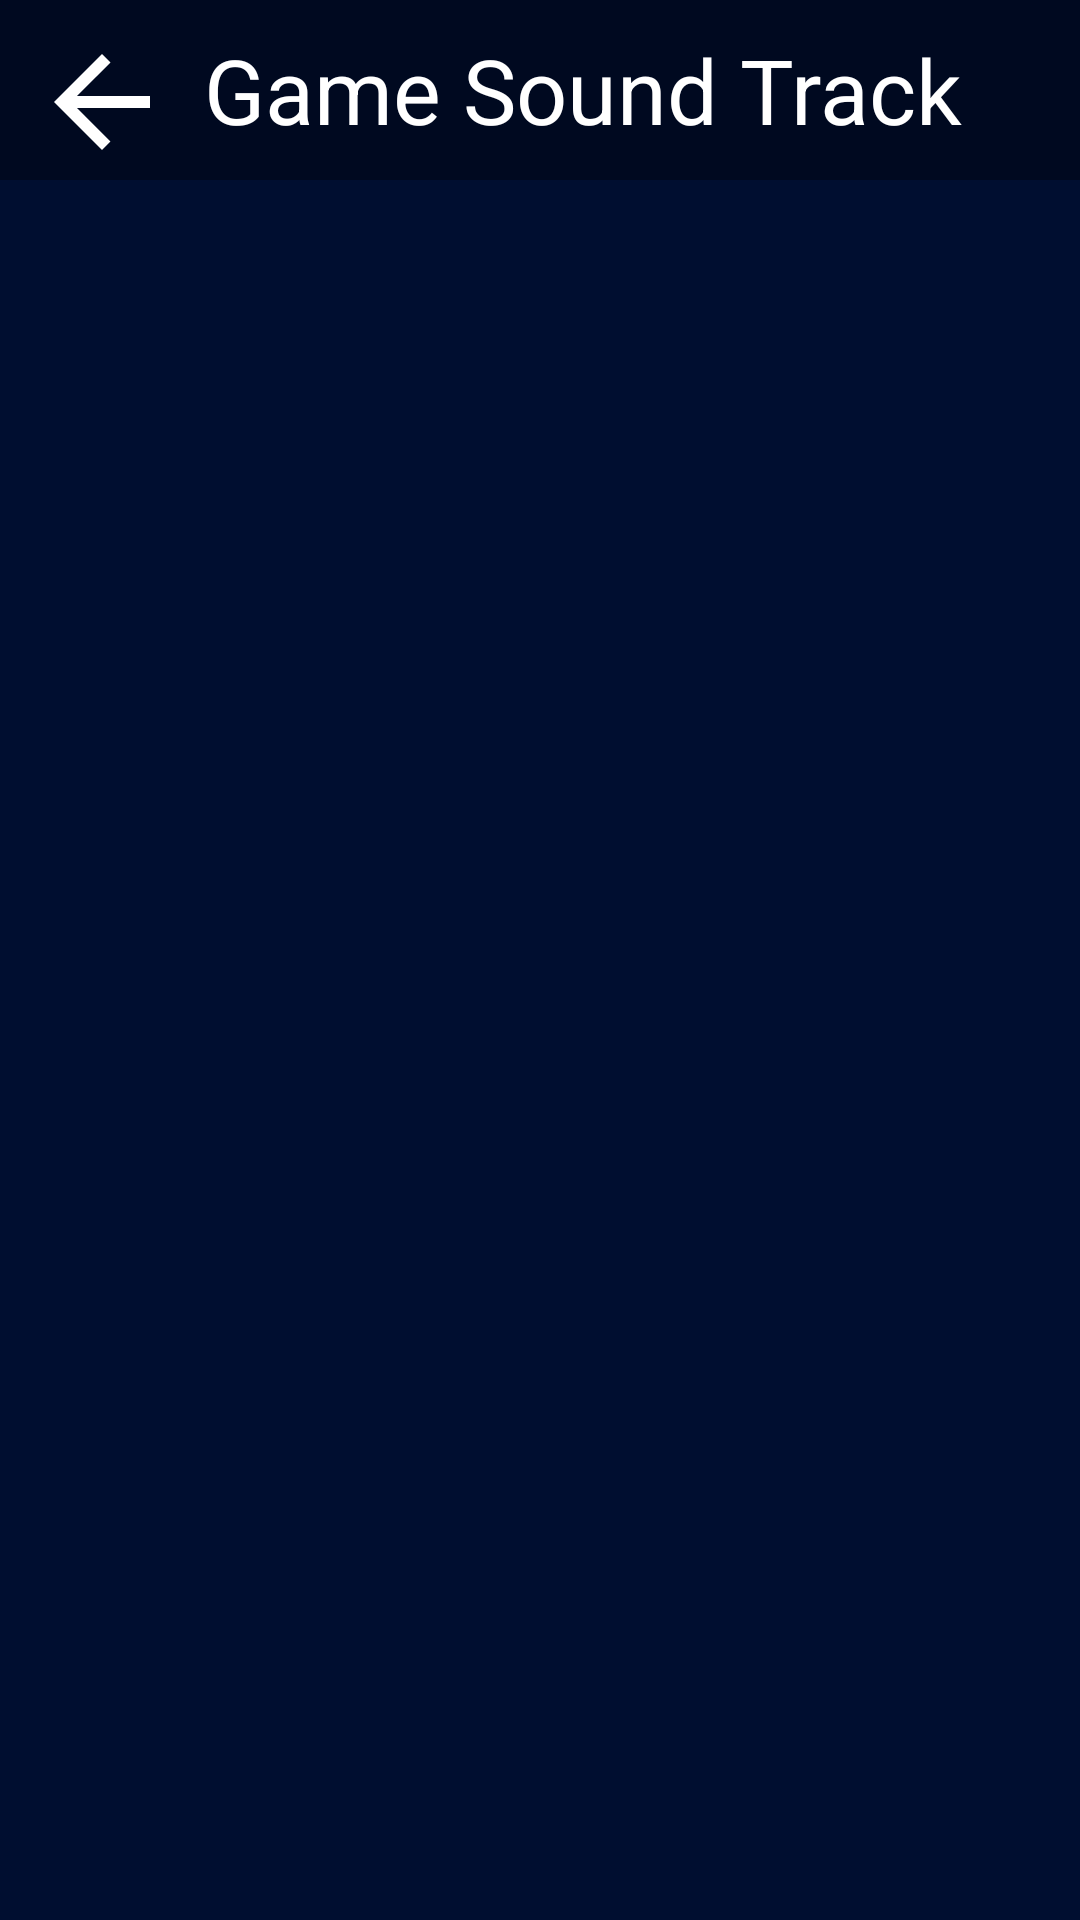

Screen size 1080 x 1920. Icon name, then its center in pixels as [x,y]:
arrow back: [102,102]
